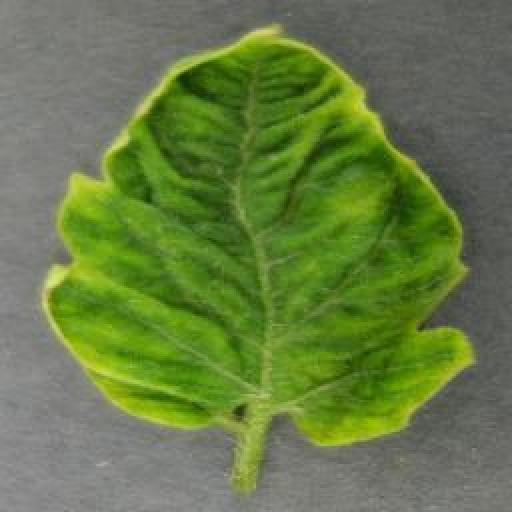disease_tomato: (44, 28, 473, 449)
